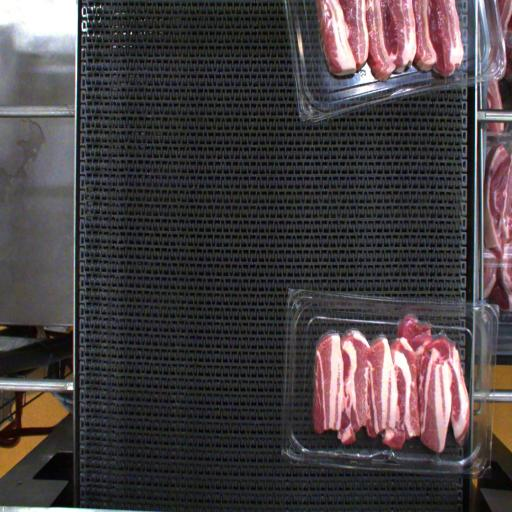unsealed: (308, 307, 462, 358)
